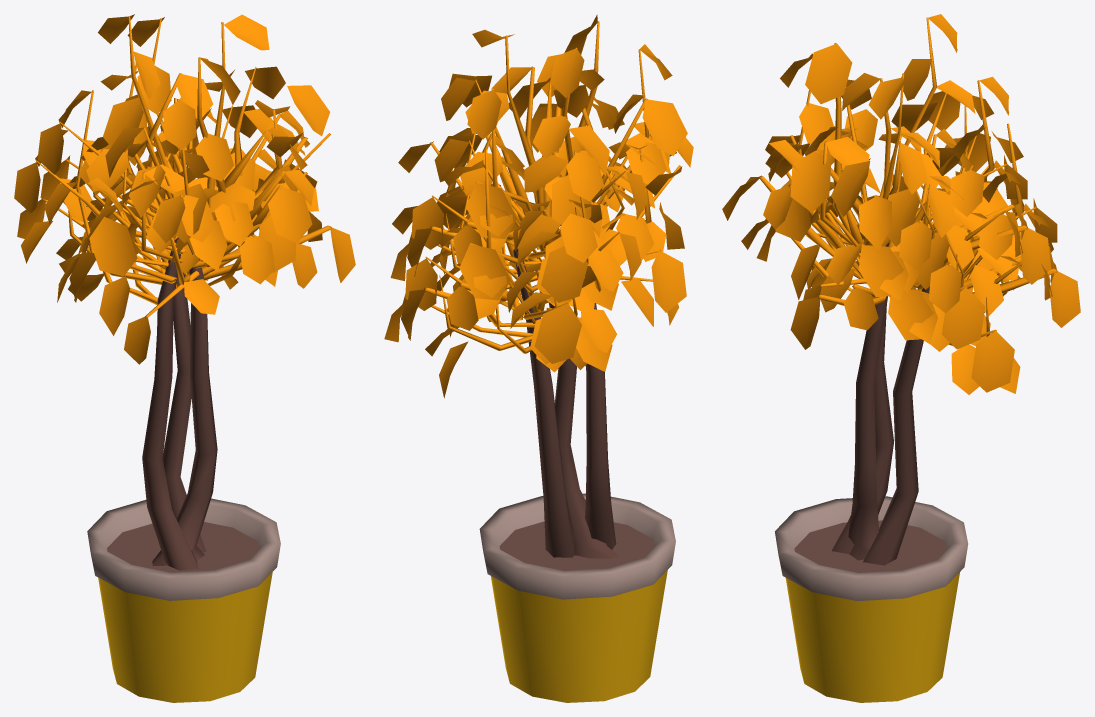
Rendered from Pot4.fbx.
3 renders of one model, left to right at view 1: azimuth 30°, elevation 25°; view 2: azimuth 150°, elevation 25°; view 3: azimuth 270°, elevation 25°, orthographic.
Visible parts, largest first — view 1: Pot4; view 2: Pot4; view 3: Pot4.
Part boxes in pixels (x1,y1,x2,y2): Pot4: (14,14,355,702); Pot4: (384,14,693,702); Pot4: (722,14,1080,702).
Size of the model in its own units: 22.78 by 53.93 by 27.3.
